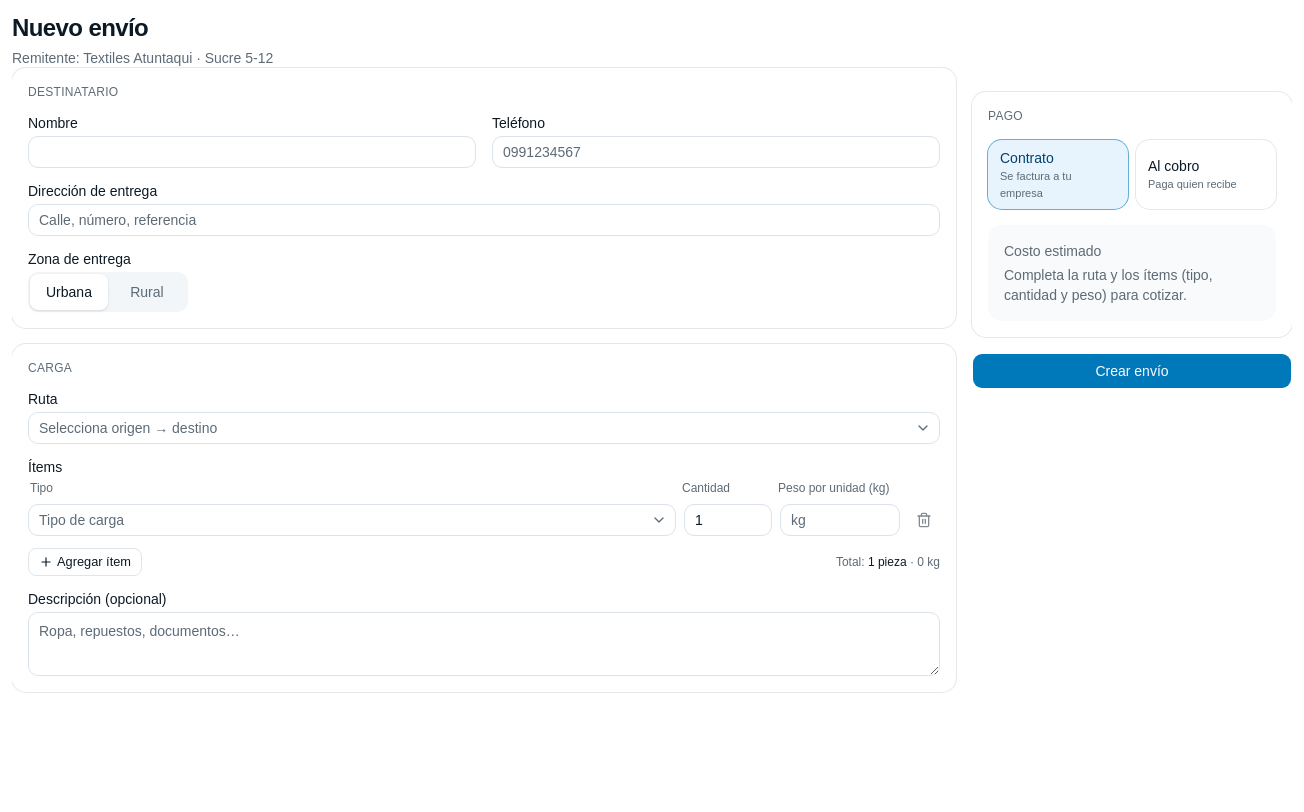
Test: NuevoEnvioPortalPage › valida destinatario, ruta e ítems antes de crear
Click the button "Crear envío" at (1132, 371), box [972,353,1292,389]
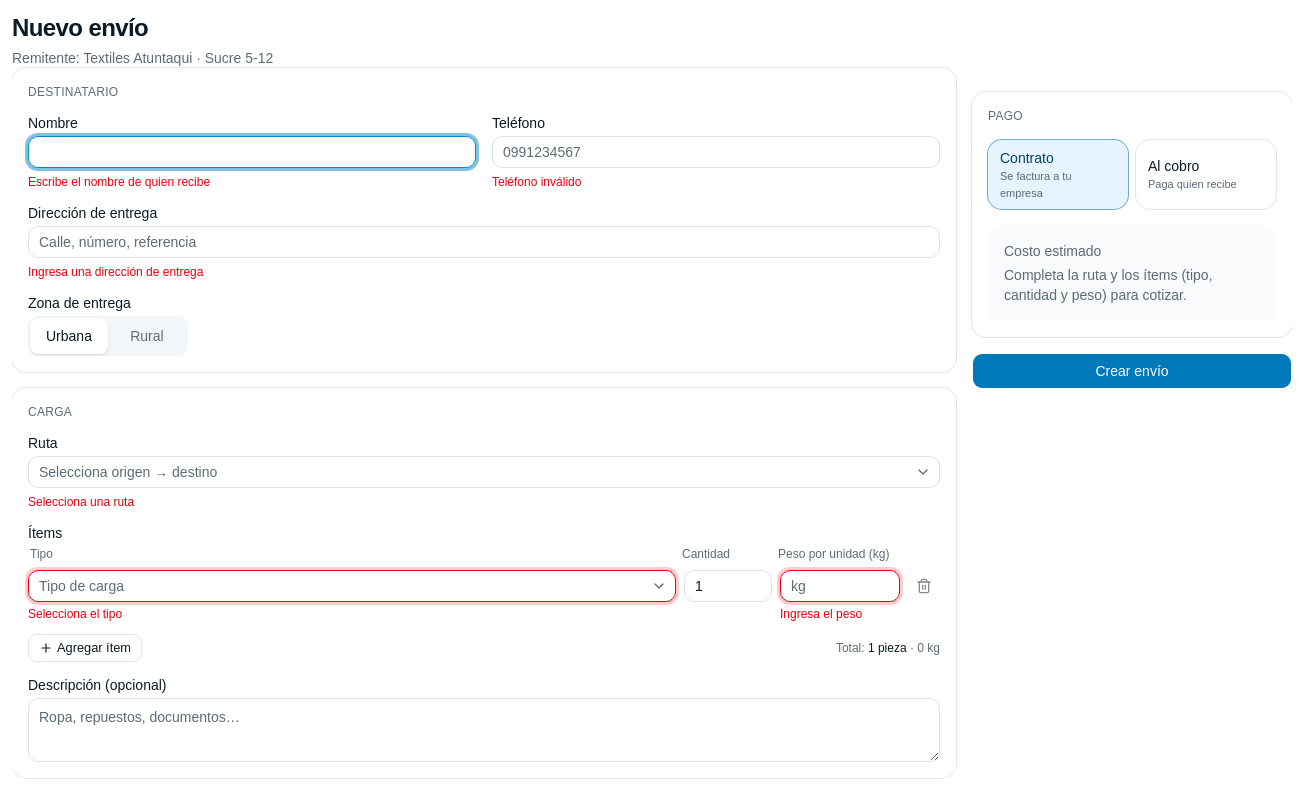
Result: the text "Escribe el nombre de quien recibe" is shown at [28,175,210,189]
Result: the text "Selecciona una ruta" is shown at [28,495,134,509]
